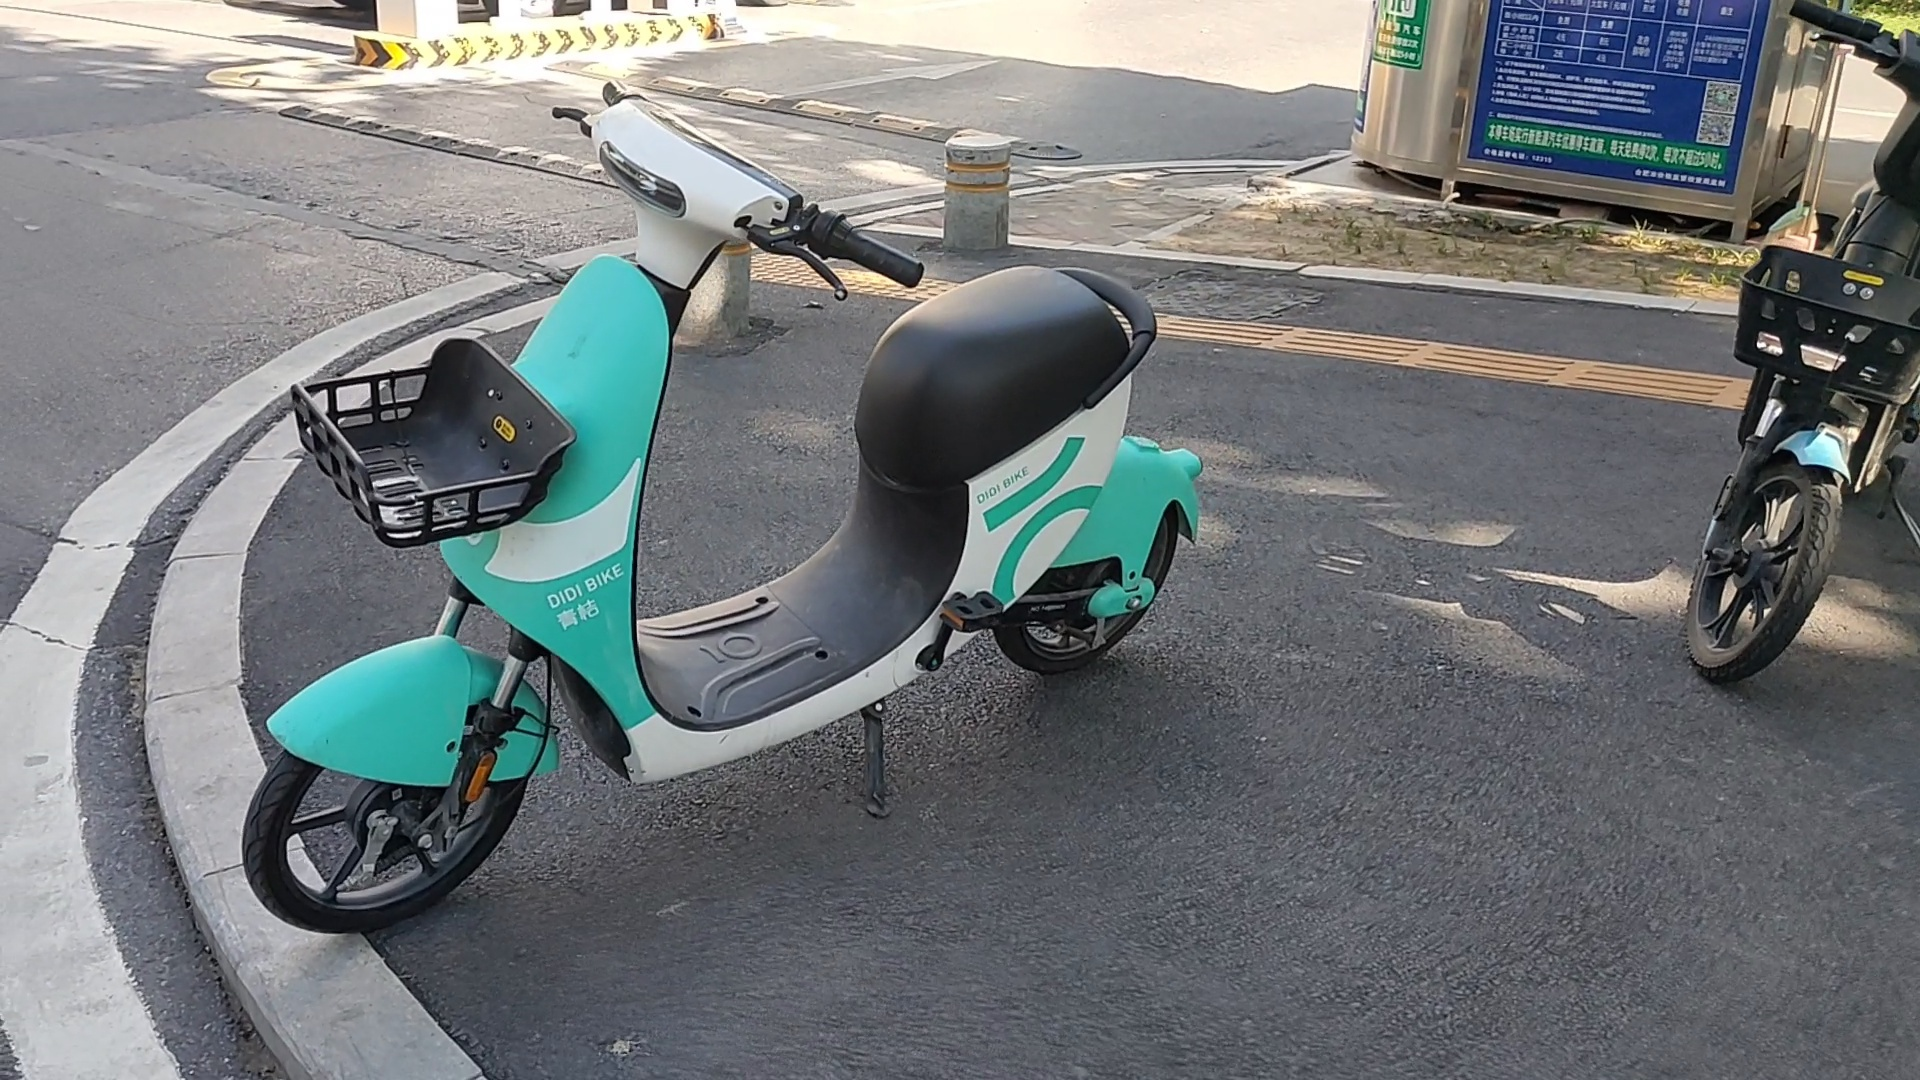non-vehicle: (237, 105, 1207, 969), (1687, 0, 1917, 711)
